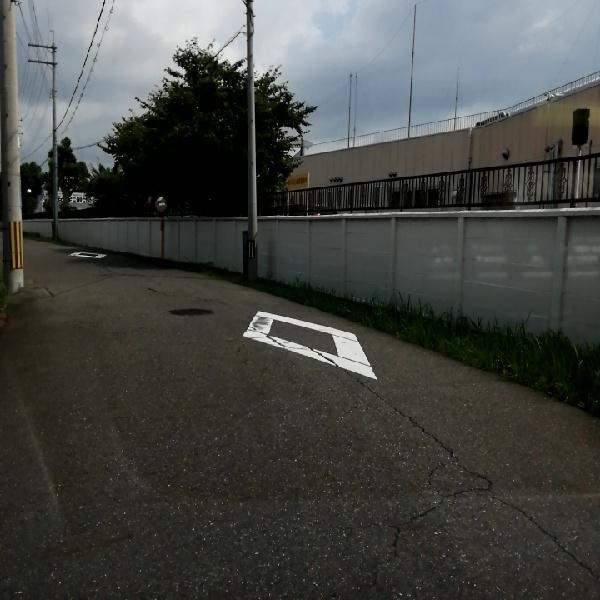D00: (366, 382, 578, 556)
D10: (358, 474, 495, 547)
D44: (233, 298, 387, 382)
D50: (164, 302, 218, 318)
